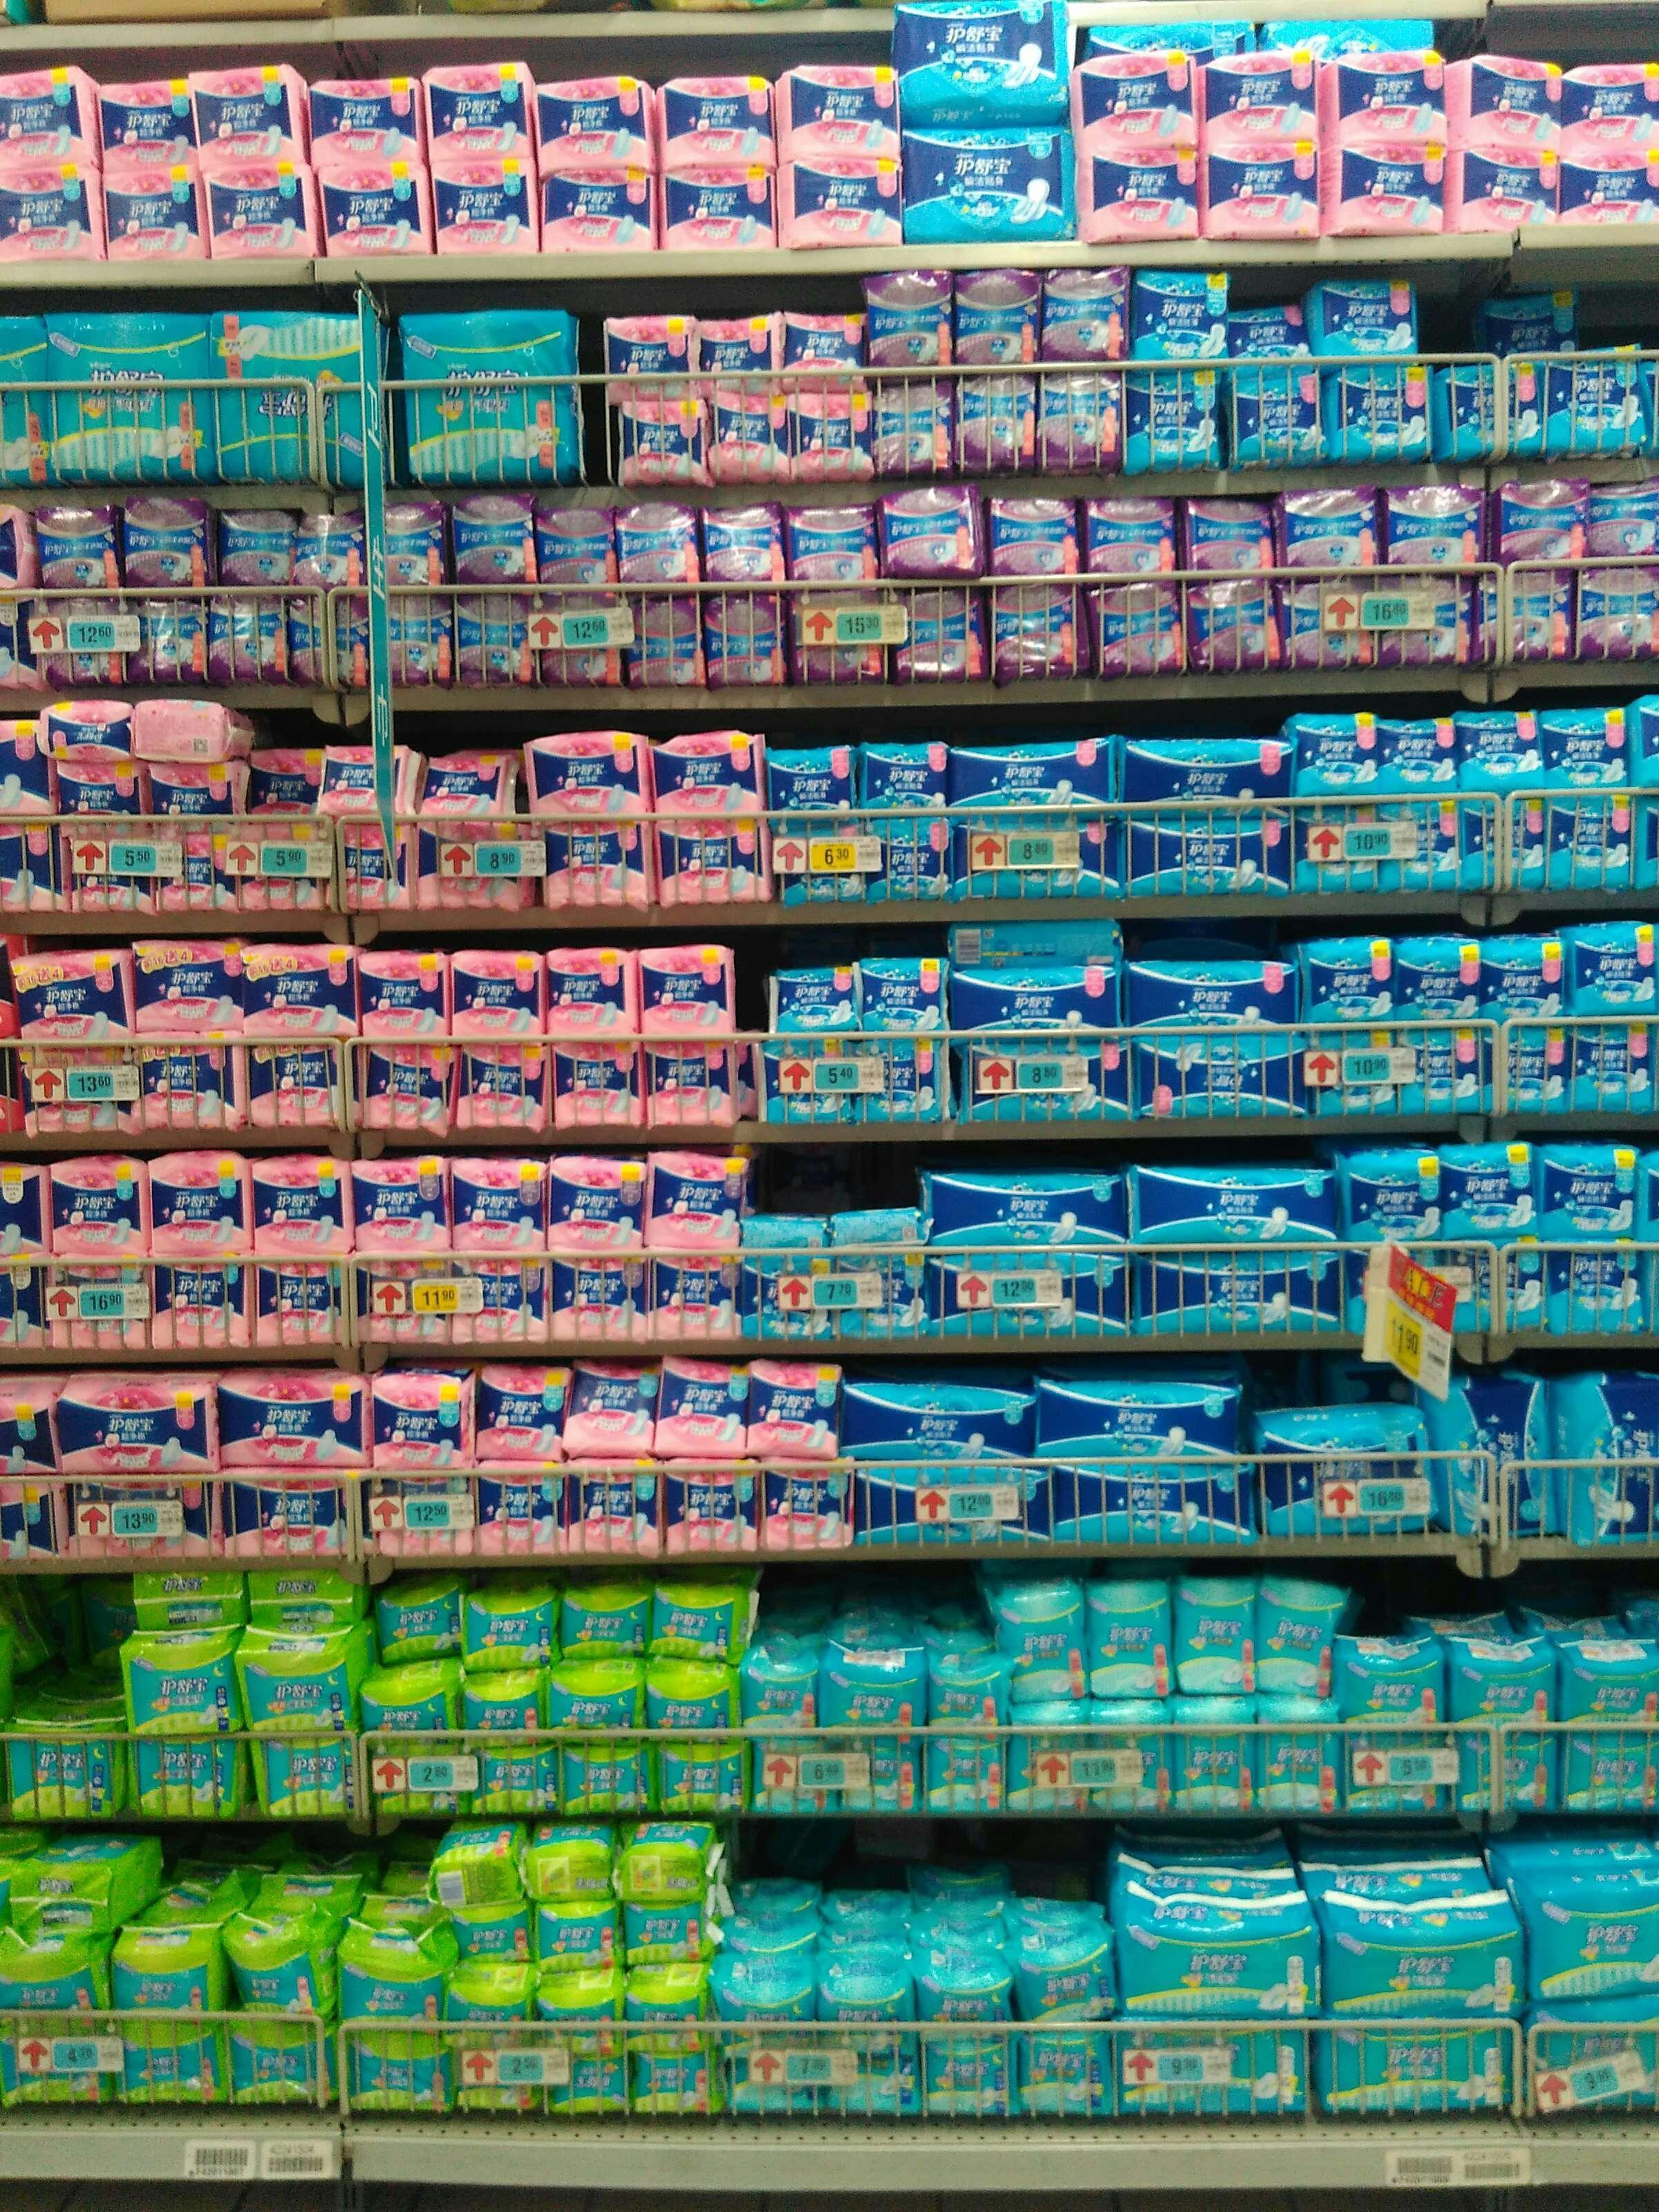misalignment: (136, 686, 251, 773), (936, 927, 1134, 967)
